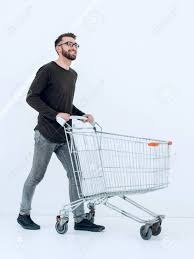with_basket: (53, 113, 172, 237)
without_mask: (55, 30, 79, 62)
